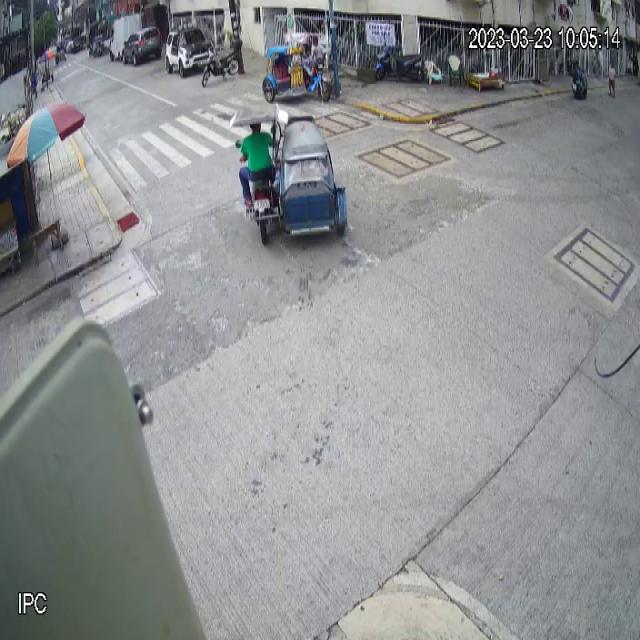Tricycle: (232, 100, 348, 245), (262, 31, 332, 104)
